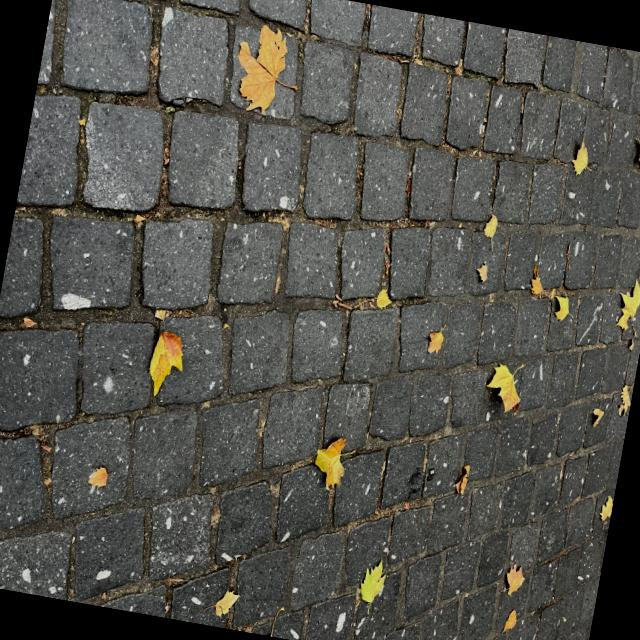leaves: (349, 532, 402, 617), (248, 34, 282, 82), (112, 44, 130, 78), (118, 6, 138, 31)
